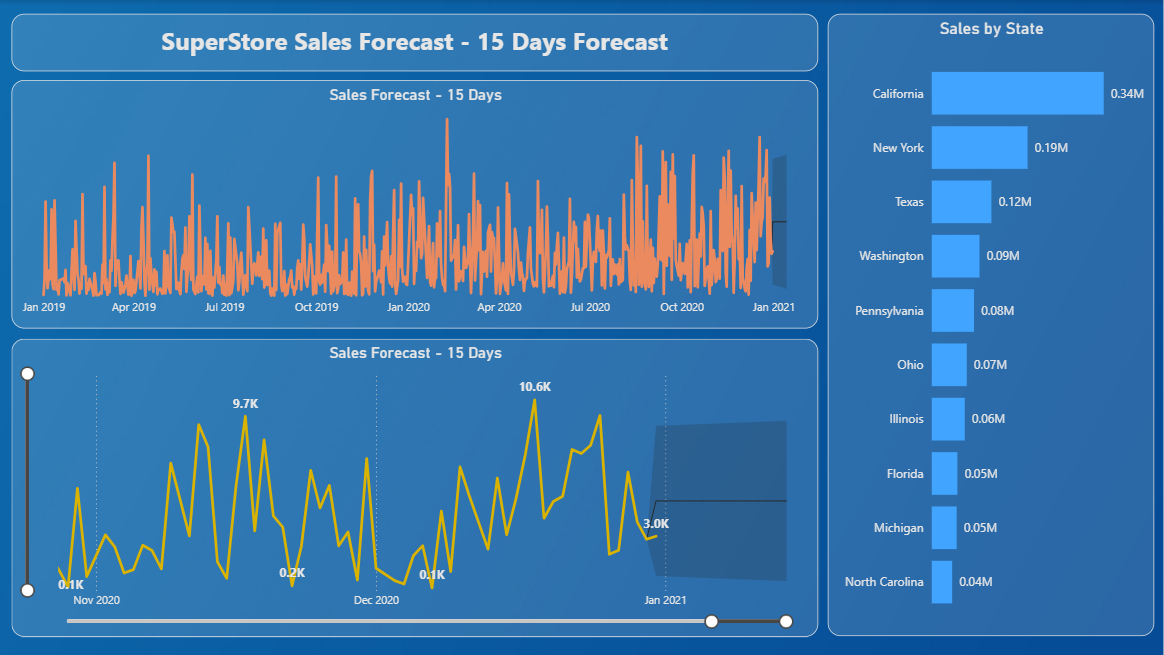

Layout of this report page (visuals, bound fields, positions):
{"tool":"powerbi","page":{"name":"Page 2","canvas":[1280,720],"ordinal":1},"visuals":[{"type":"lineChart","title":"Sales Forecast - 15 Days","fields":{"Y":["Sum(SuperStore_Sales_Dataset.Sales)"],"Category":["SuperStore_Sales_Dataset.Order Date"]},"box":[14.3,371.4,885.7,327.1],"z":0},{"type":"lineChart","title":"Sales Forecast - 15 Days","fields":{"Y":["Sum(SuperStore_Sales_Dataset.Sales)"],"Category":["SuperStore_Sales_Dataset.Order Date"]},"box":[14.3,87.1,885.7,272.9],"z":1000},{"type":"textbox","box":[14.3,15.7,885.7,62.9],"z":2000},{"type":"barChart","title":"Sales by State","fields":{"Category":["SuperStore_Sales_Dataset.State"],"Y":["Sum(SuperStore_Sales_Dataset.Sales)"]},"box":[910,15.7,358.6,682.9],"z":3000}]}

Visuals, with their boxes in screenshot pixels (x1, y1, x2, y2), scaled from the page's 1280x720 canvas onto the 1164x655 screenshot:
"Sales Forecast - 15 Days" lineChart: 13, 338, 818, 635
"Sales Forecast - 15 Days" lineChart: 13, 79, 818, 328
textbox: 13, 14, 818, 72
"Sales by State" barChart: 828, 14, 1154, 636
